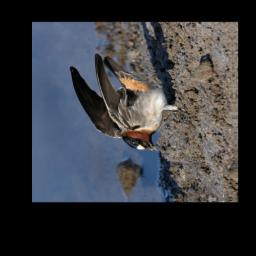Swallow: (68, 53, 192, 153)
